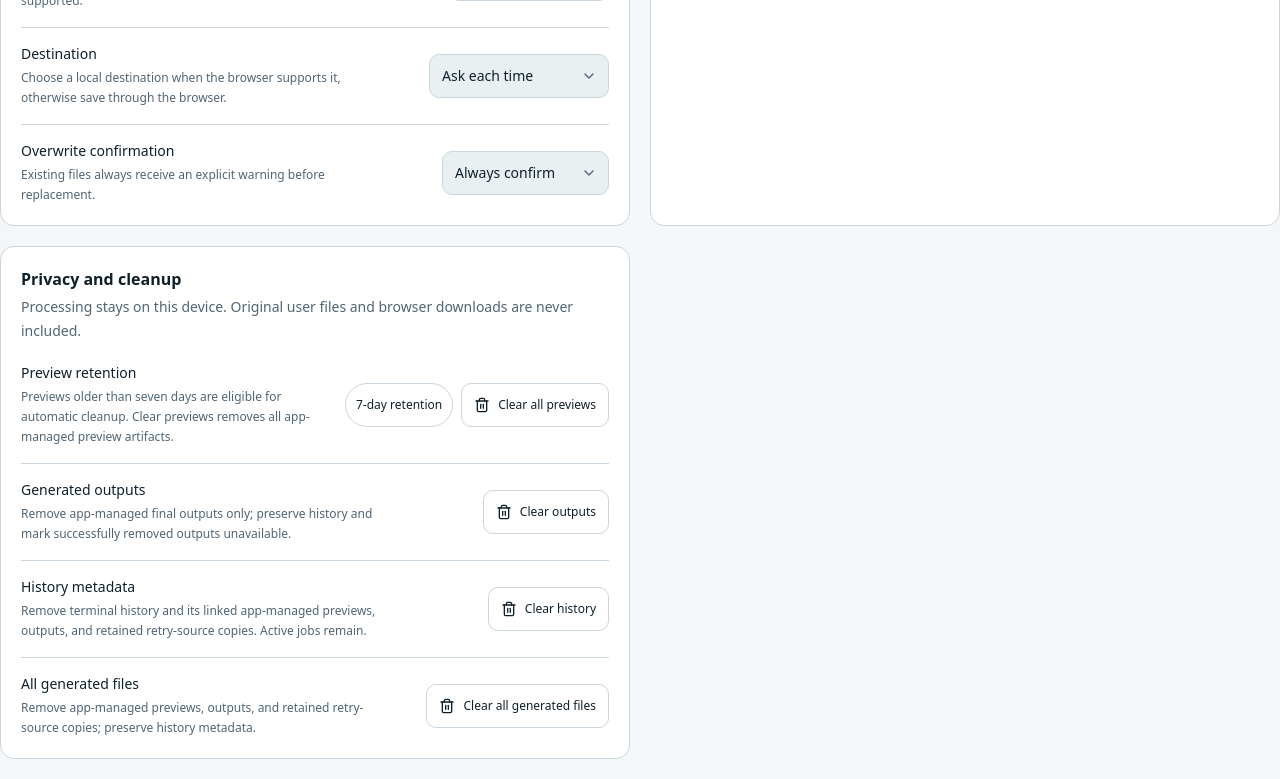
settings panel › requires confirmation and reports completion without deleting unrelated localStorage
The width and height of the screenshot is (1280, 779).
(page scrolled)
Click the button "Clear outputs".
click(546, 512)  # box [483, 490, 609, 534]
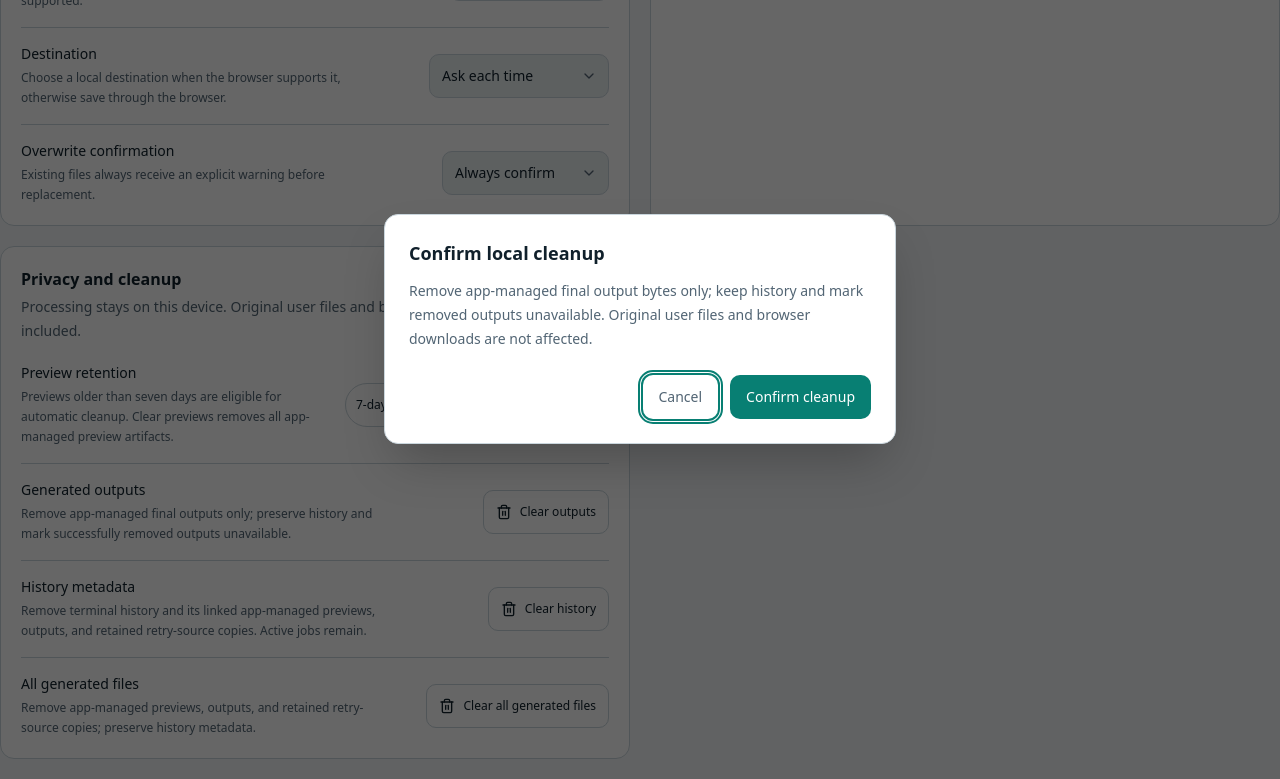
Expected: the dialog shows "final output bytes only", [409, 281, 863, 324]
Click the button "Cancel".
click(680, 397)  # box [642, 375, 718, 419]
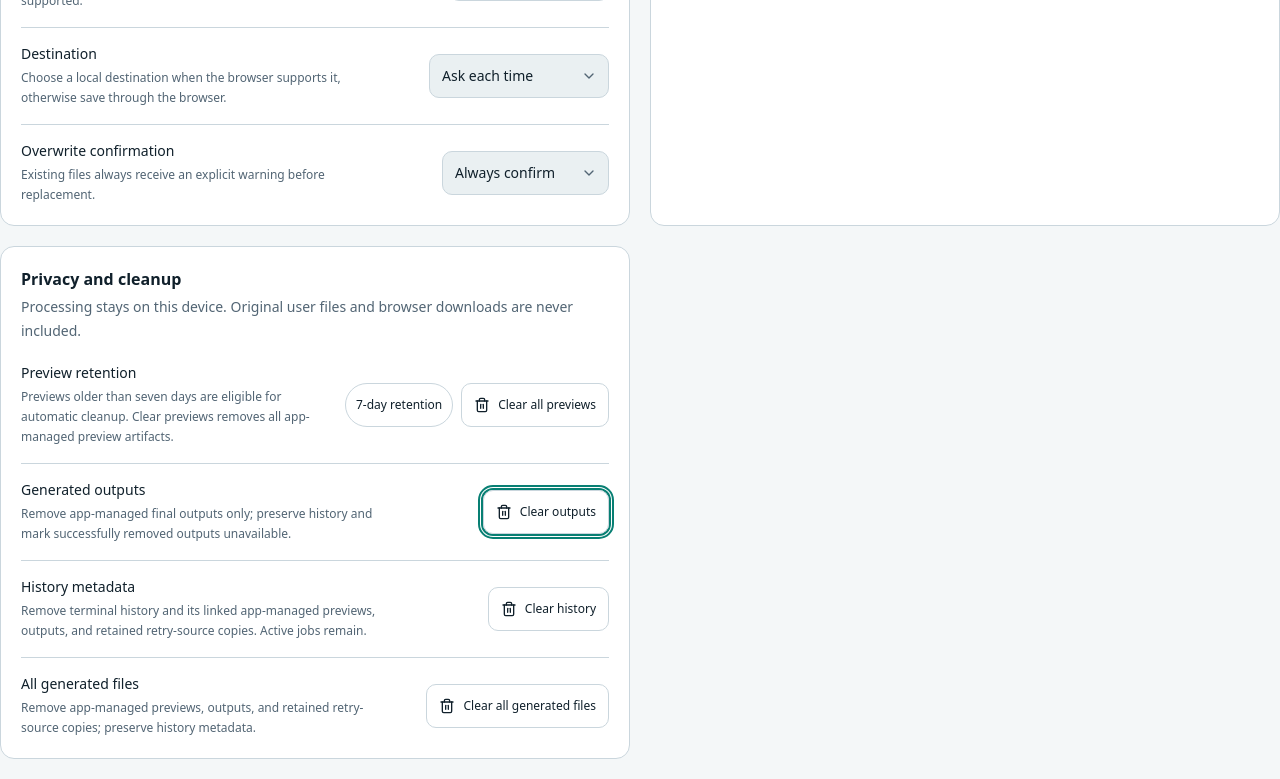
Click the button "Clear outputs".
click(546, 512)  # box [483, 490, 609, 534]
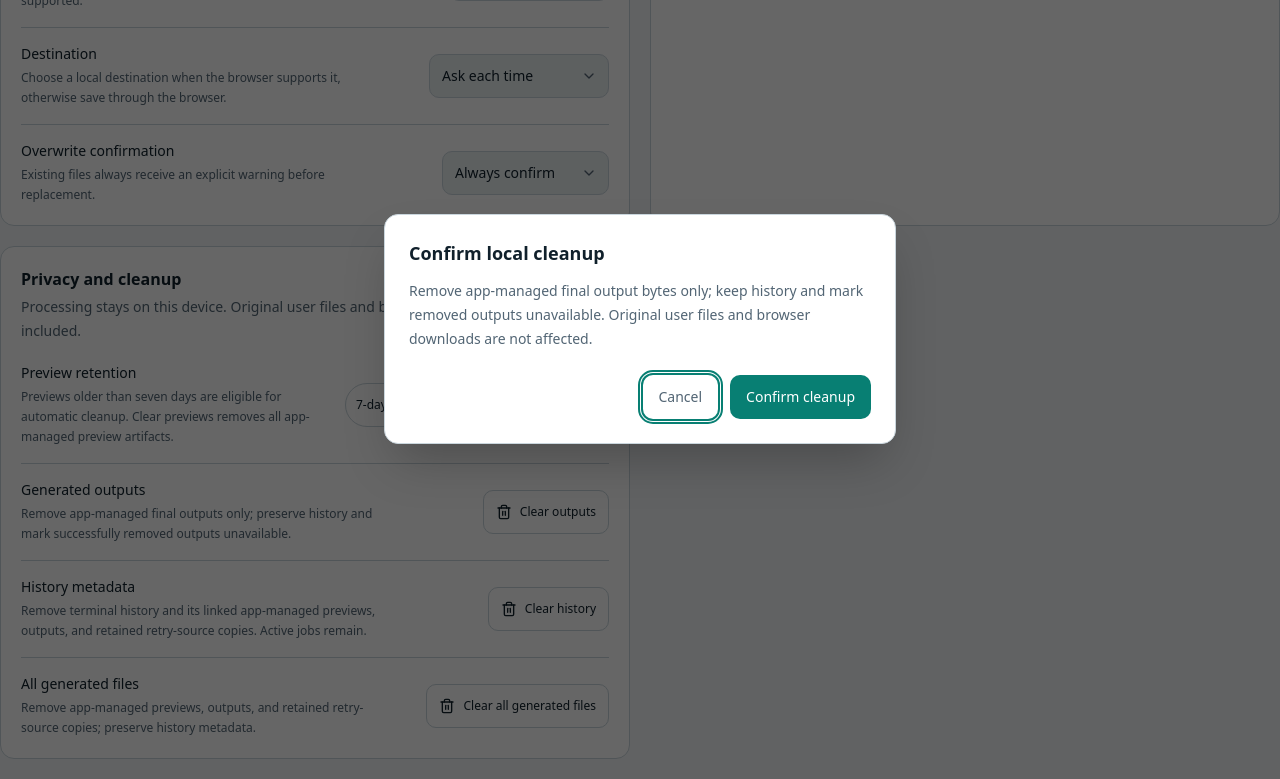
Click the button "Confirm cleanup".
click(801, 397)  # box [730, 375, 871, 419]
(page scrolled)
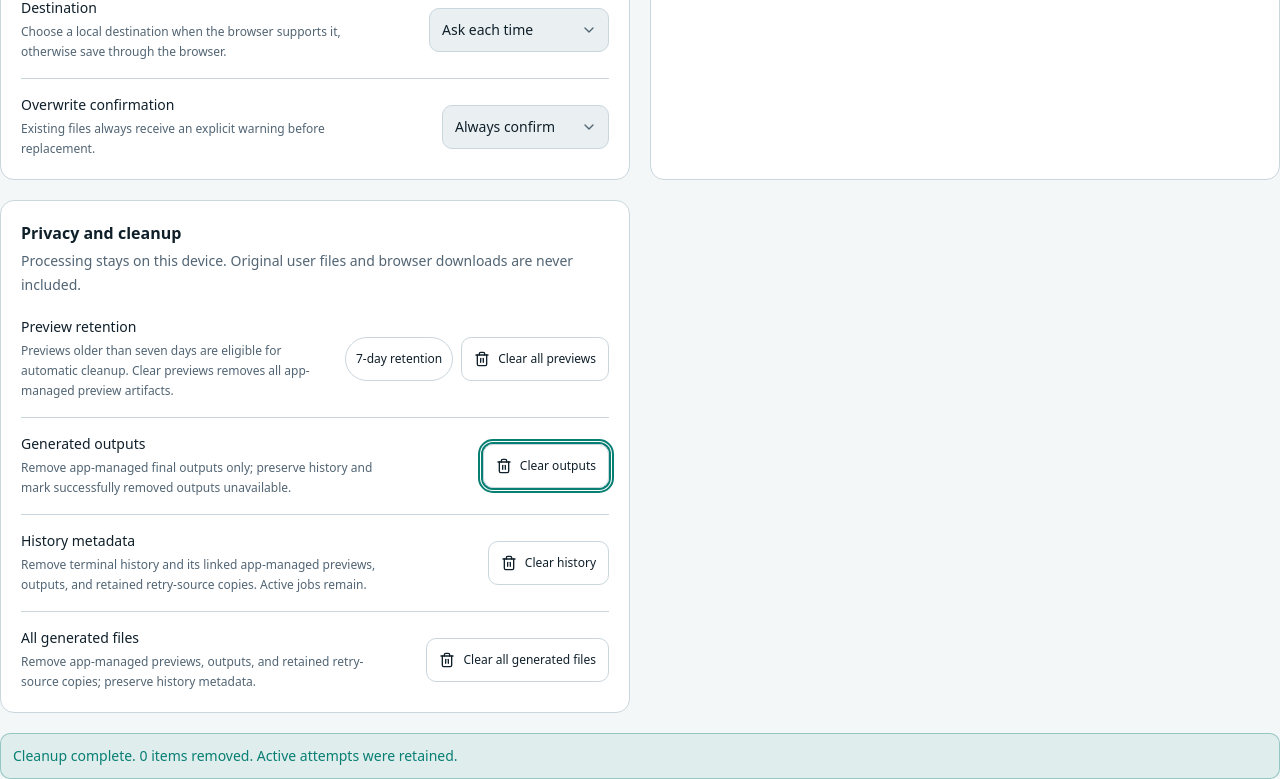
Expected: the text "Cleanup complete. 0 items removed. Active attempts were retained." is shown, [13, 746, 458, 765]
